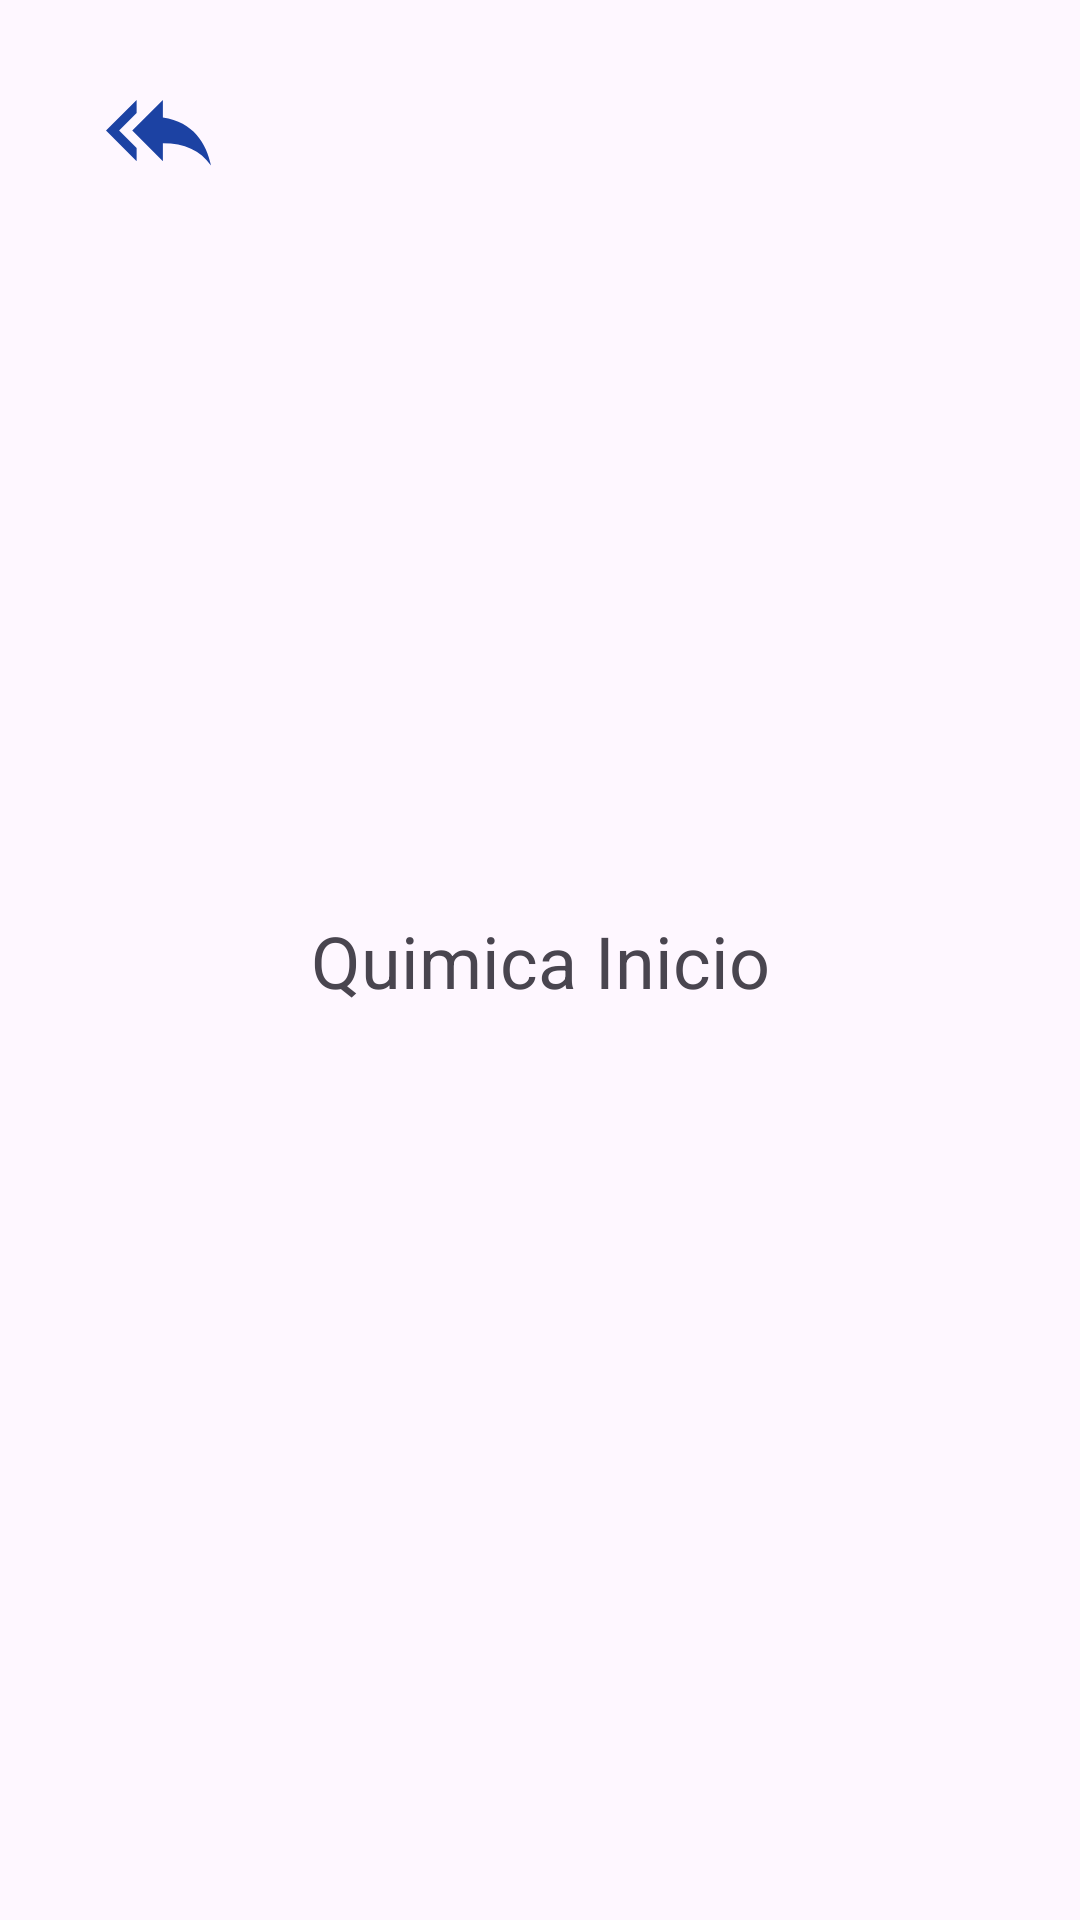

Screen size 1080px x 1920px. Icon name, then its center in pixels as point (x, y):
backimage: point (158, 132)
